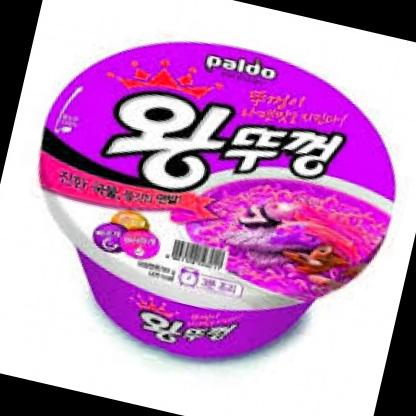Ramen: (0, 6, 416, 402)
